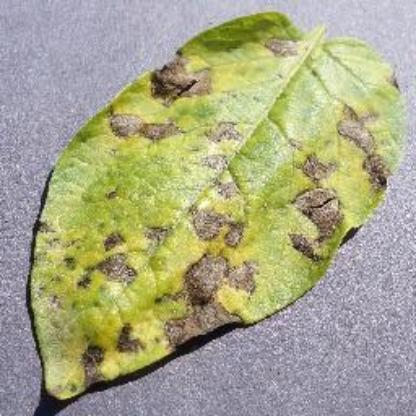Early-Blight: (31, 8, 399, 400)
